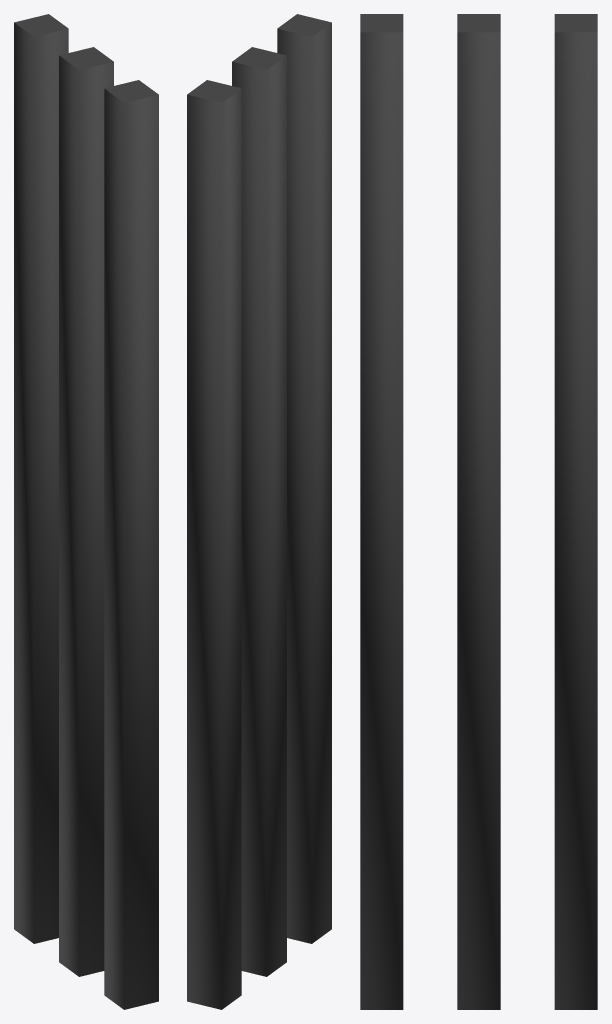
File: SW_ENV_Elevator_Car_Ropes.fbx
The picture shows the model from 3 angles, left to right: view 1: azimuth 30°, elevation 25°; view 2: azimuth 150°, elevation 25°; view 3: azimuth 270°, elevation 25°; orthographic projection. The views are drawn at different scales.
Parts seen in each view (by area): view 1: SW_ENV_Elevator_Car_Ropes; view 2: SW_ENV_Elevator_Car_Ropes; view 3: SW_ENV_Elevator_Car_Ropes.
Part boxes in pixels (<box>): SW_ENV_Elevator_Car_Ropes: <box>14,14,158,1009</box>; SW_ENV_Elevator_Car_Ropes: <box>187,14,331,1009</box>; SW_ENV_Elevator_Car_Ropes: <box>360,14,597,1009</box>.
Bounding box in the file's own units: 0.04 × 1 × 0.22.
